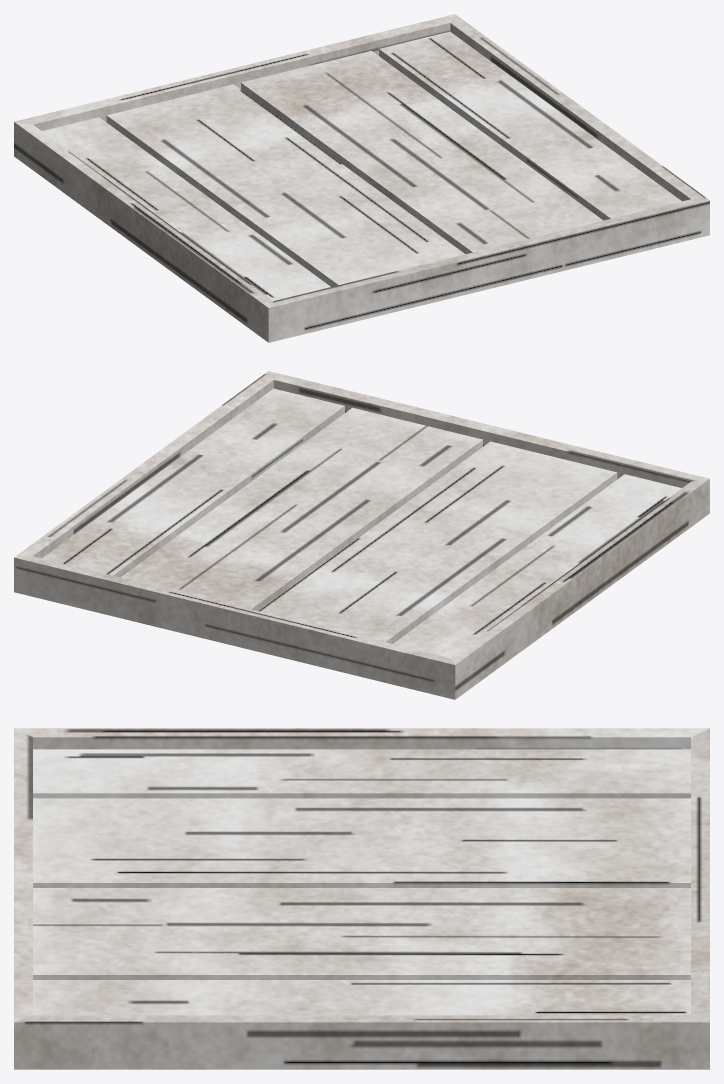
File: Box Lid.fbx
The picture shows the model from 3 angles, top to bottom: view 1: azimuth 30°, elevation 25°; view 2: azimuth 150°, elevation 25°; view 3: azimuth 270°, elevation 25°; orthographic projection. The views are drawn at different scales.
Visible parts, largest first — view 1: Box_Lid_Inner; view 2: Box_Lid_Inner; view 3: Box_Lid_Inner.
Boxes of the visible parts, bbox=[...] form: Box_Lid_Inner: bbox=[14, 14, 709, 342]; Box_Lid_Inner: bbox=[14, 371, 709, 699]; Box_Lid_Inner: bbox=[14, 728, 709, 1069].
Size of the model in its own units: 459 by 34.48 by 459.
